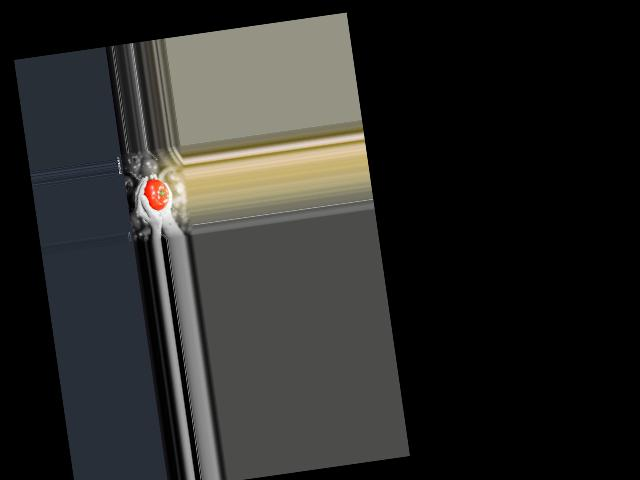tomato: (142, 177, 170, 212)
